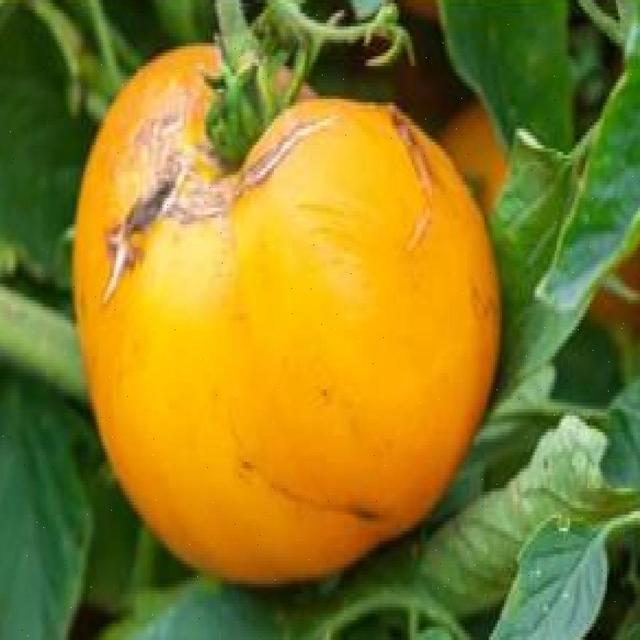Cracking Fruit: (61, 41, 224, 208)
